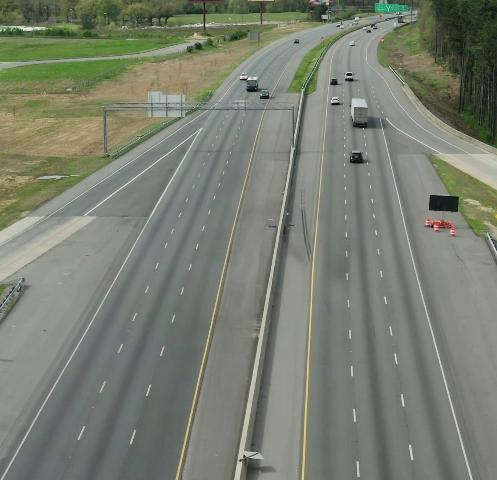bus: (247, 76, 259, 91)
car: (348, 147, 366, 167), (260, 89, 272, 100), (331, 96, 341, 106), (330, 78, 339, 86), (239, 72, 247, 80), (350, 41, 355, 46), (294, 39, 300, 43), (373, 25, 378, 29), (336, 23, 341, 27), (371, 23, 376, 27), (367, 29, 371, 33), (355, 17, 360, 20), (354, 21, 358, 24), (363, 27, 367, 30), (341, 25, 345, 28)
pickup-truck: (345, 71, 355, 80)
truck: (348, 97, 372, 130)
